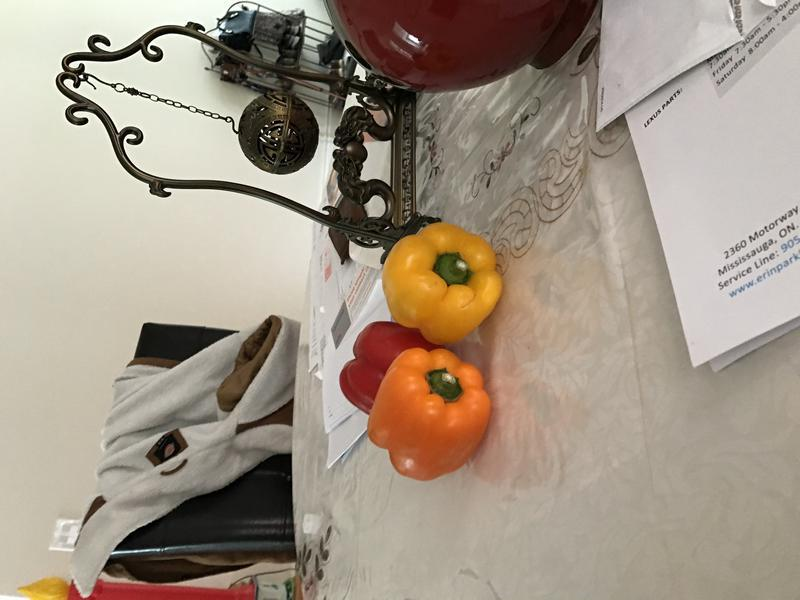orange_pepper: (360, 345, 498, 491)
red_pepper: (338, 316, 444, 417)
yellow_pepper: (374, 215, 508, 349)
